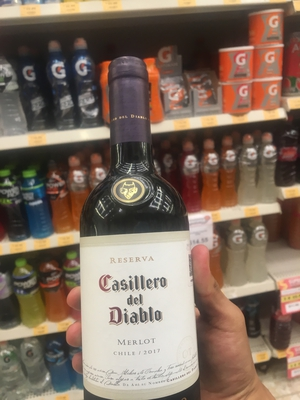casillero del diablo merlot: (72, 62, 202, 400)
